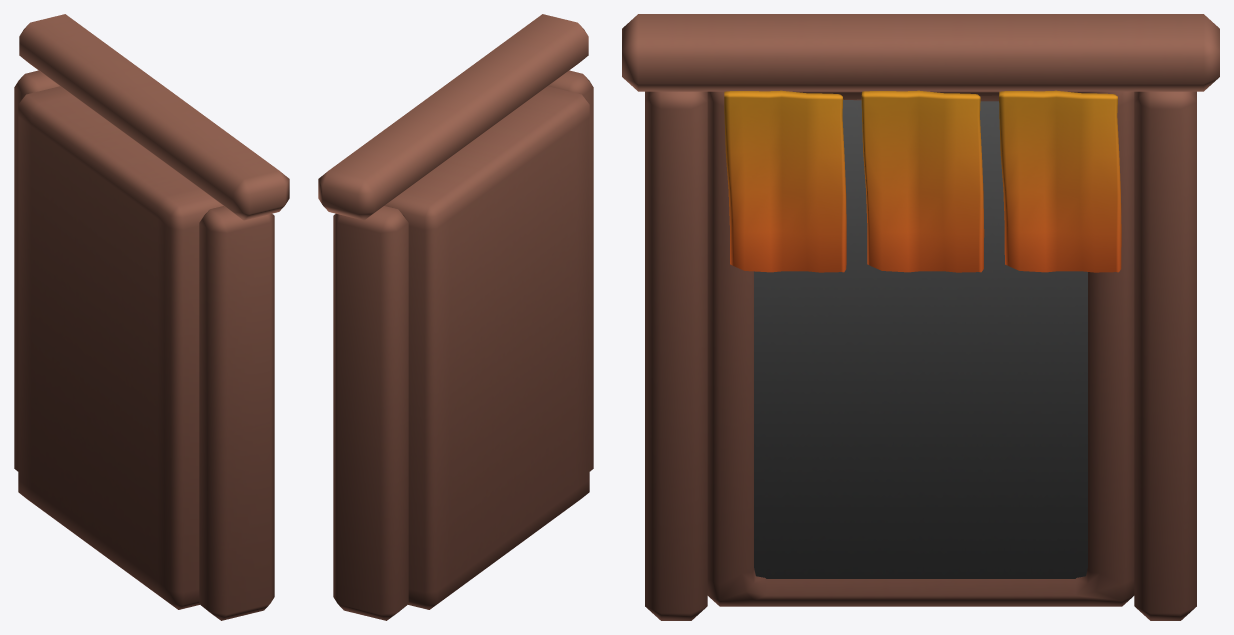
The model's file is SM_Wood_Door_02.fbx.
3 views of the same model, side by side, from view 1: azimuth 30°, elevation 25°; view 2: azimuth 150°, elevation 25°; view 3: azimuth 270°, elevation 25° (orthographic). The views are drawn at different scales.
Parts seen in each view (by area): view 1: SM_Wood_Door_02; view 2: SM_Wood_Door_02; view 3: SM_Wood_Door_02.
Boxes of the visible parts, x1,y1,x2,y2 form: SM_Wood_Door_02: [14, 14, 289, 620]; SM_Wood_Door_02: [318, 14, 593, 620]; SM_Wood_Door_02: [622, 14, 1219, 620].
Size of the model in its own units: 0.1268 by 0.5784 by 0.5324.
